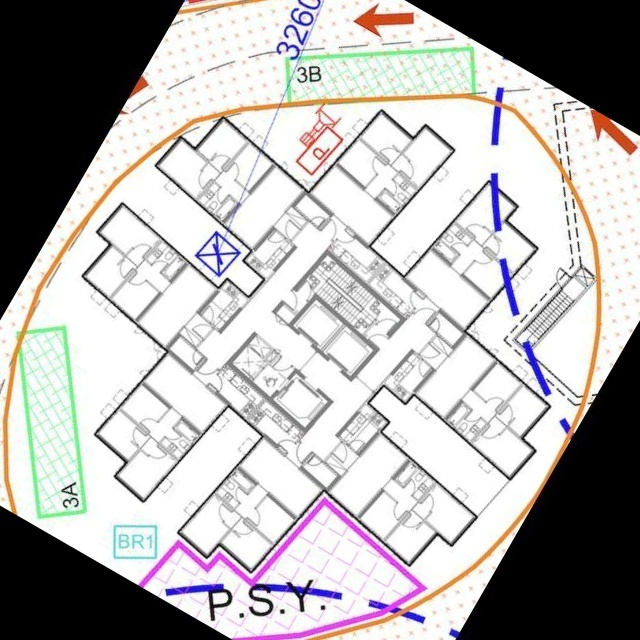tower_crane: (194, 230, 241, 279)
